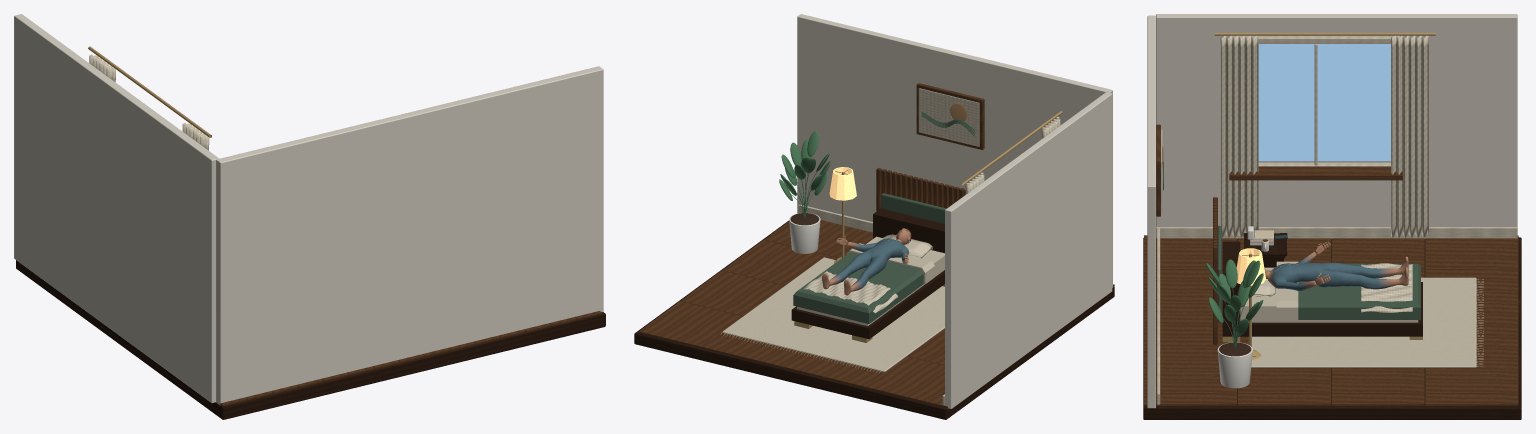
Rendered from bedroom_realistic.glb.
3 views of the same model, side by side, from view 1: azimuth 30°, elevation 25°; view 2: azimuth 150°, elevation 25°; view 3: azimuth 270°, elevation 25° (orthographic). The views are drawn at different scales.
Visible parts, largest first — view 1: Headboard wall, Left wall, Floor foundation, Curtain rail; view 2: Left wall, Headboard wall, Woven bedside rug, Floor foundation, bedSingle, cover, Artwork paper, Plane.007, Folded foot throw, Headboard upholstered inset, Artwork oak frame, Light_Stand1 (+25 smaller); view 3: Left wall, Window dusk pane, Woven bedside rug, Linen curtain.001, Linen curtain, Floor foundation, bedSingle, cover, Headboard wall, Plane.007, Side skirting, Deep window sill (+53 smaller).
Part boxes in pixels (x1,y1,x2,y2): Headboard wall: (216, 66, 603, 405); Left wall: (14, 14, 219, 403); Floor foundation: (16, 260, 605, 419); Curtain rail: (88, 46, 211, 137); Left wall: (945, 92, 1112, 408); Headboard wall: (797, 14, 1112, 287); Woven bedside rug: (722, 257, 944, 372); Floor foundation: (634, 220, 1114, 419); bedSingle: (791, 208, 944, 342); cover: (793, 243, 934, 323); Artwork paper: (918, 88, 979, 146); Plane.007: (822, 236, 908, 295); Folded foot throw: (803, 271, 898, 313); Headboard upholstered inset: (881, 193, 946, 223); Artwork oak frame: (916, 83, 984, 149); Light_Stand1: (829, 167, 856, 263); Left wall: (1156, 14, 1517, 226); Window dusk pane: (1258, 44, 1390, 161); Woven bedside rug: (1248, 277, 1476, 367); Linen curtain.001: (1391, 35, 1428, 237); Linen curtain: (1220, 35, 1258, 237); Floor foundation: (1143, 237, 1521, 419); bedSingle: (1222, 241, 1422, 342); cover: (1276, 261, 1420, 320); Headboard wall: (1147, 15, 1155, 408); Plane.007: (1268, 241, 1408, 290); Side skirting: (1156, 227, 1517, 238); Deep window sill: (1229, 166, 1402, 180).
Bounding box in the file's own units: 4.75 × 3 × 4.4.
Materials: 25 (6 with a texture image).
